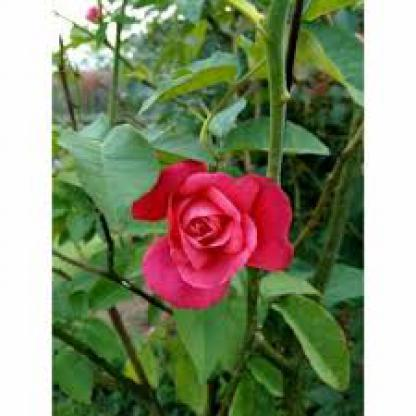Rose-Mawar: (127, 153, 301, 314)
